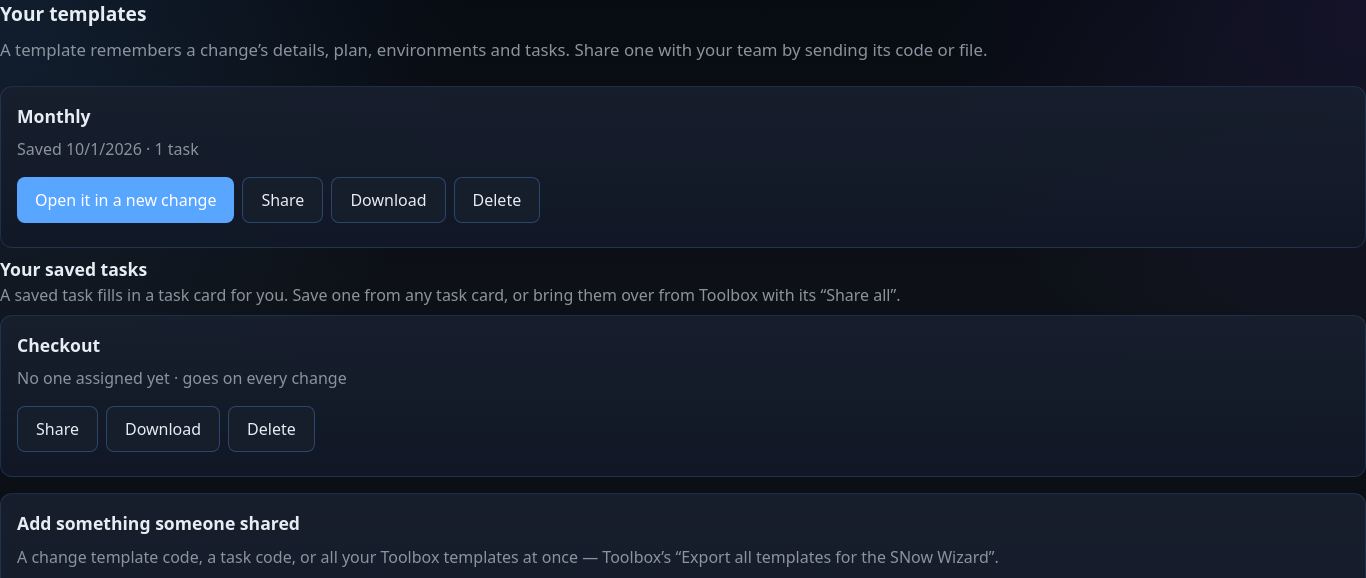
Scenario: TemplatesScreen › asks on the page before deleting, and can keep it
This screenshot has width=1366, height=578.
Step 1. Click the button "Delete" below "Saved 10/1/2026 · 1 task" → [497, 200], box x1=454 y1=177 x2=540 y2=223
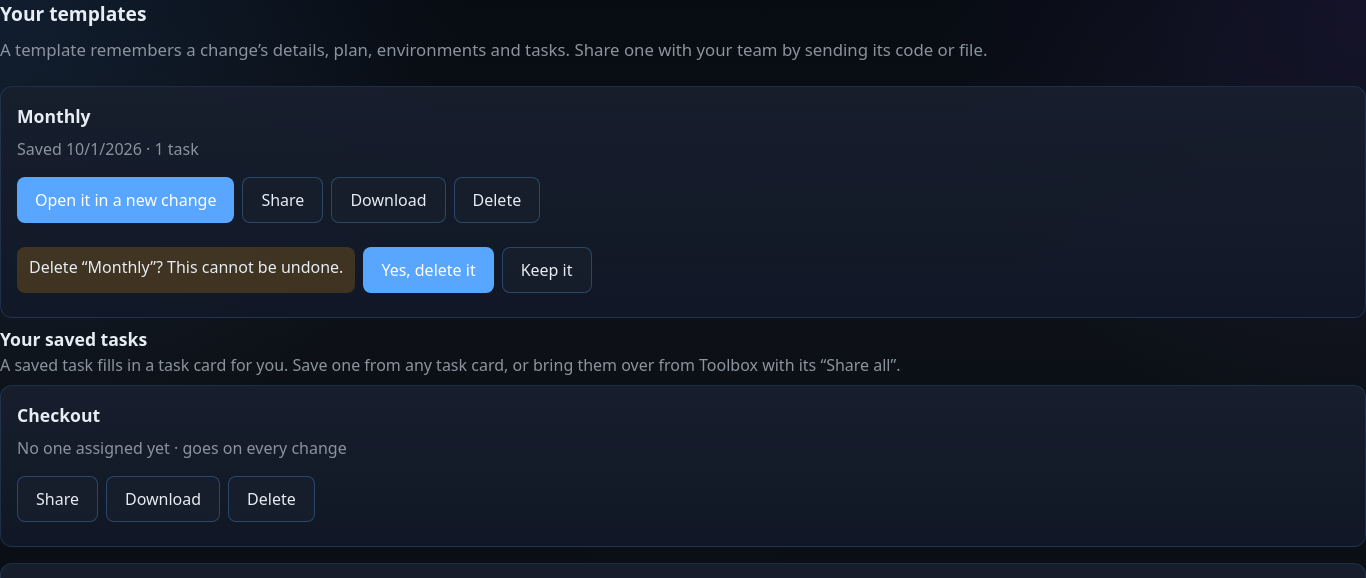
Step 2. Click the button "Keep it" → [547, 270], box x1=502 y1=247 x2=592 y2=293
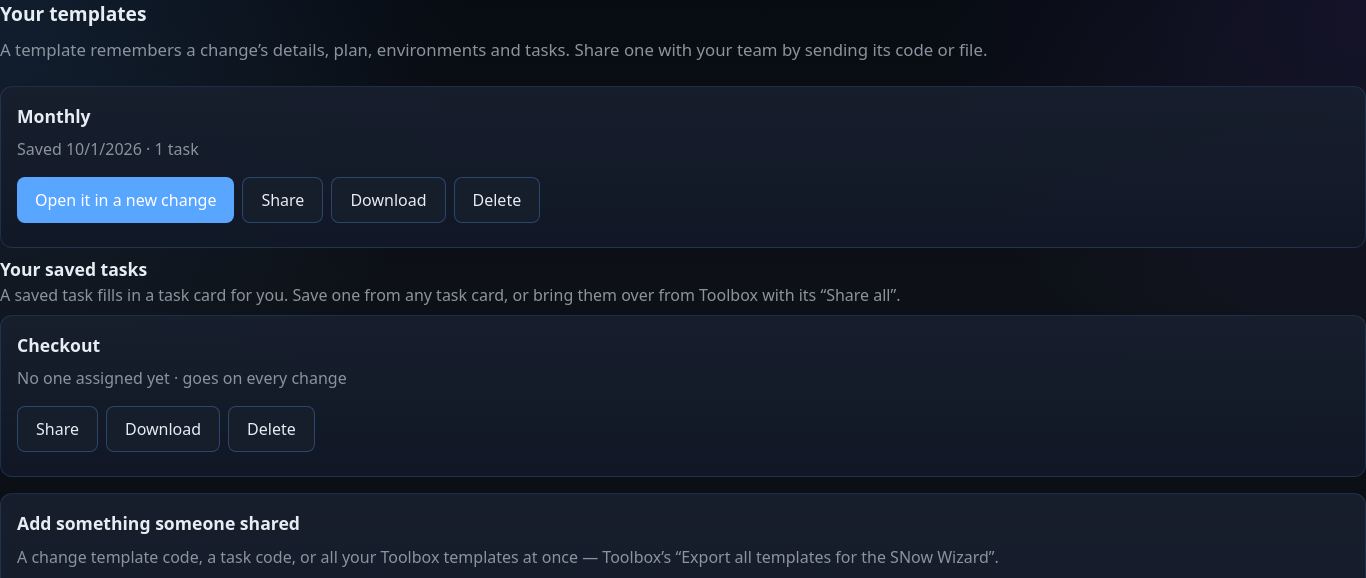
Expected: the heading "Monthly" is shown, x1=17 y1=104 x2=91 y2=128
Step 3. Click the button "Delete" below "Saved 10/1/2026 · 1 task" → [497, 200], box x1=454 y1=177 x2=540 y2=223
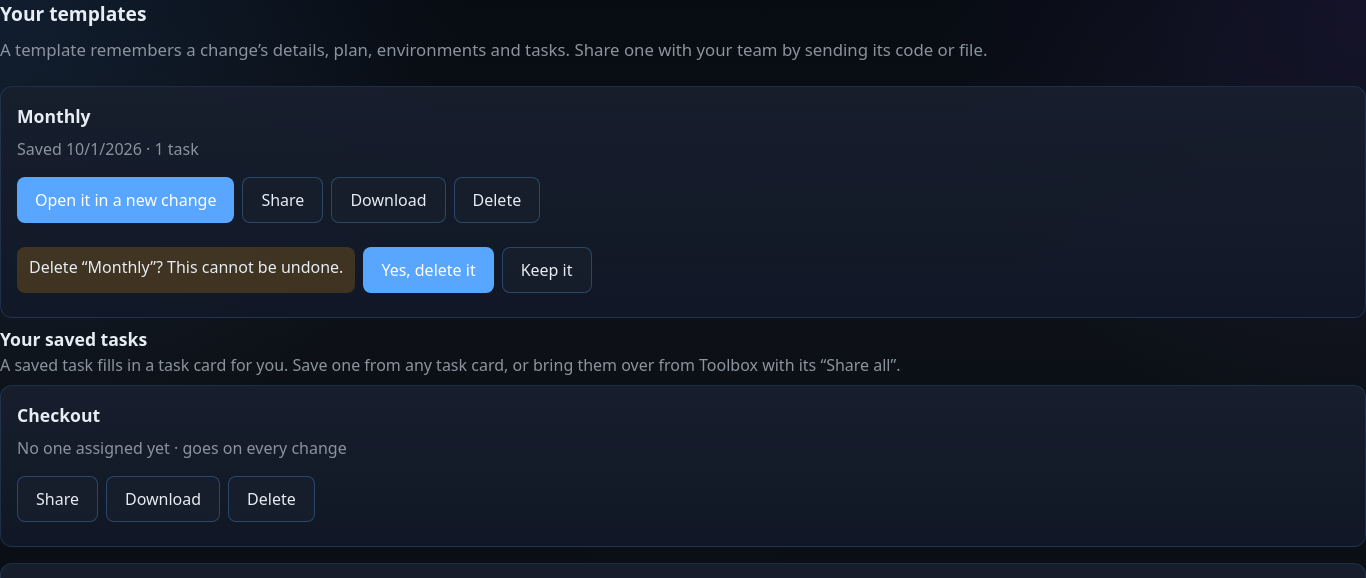
Step 4. Click the button "Yes, delete it" → [429, 270], box x1=363 y1=247 x2=494 y2=293
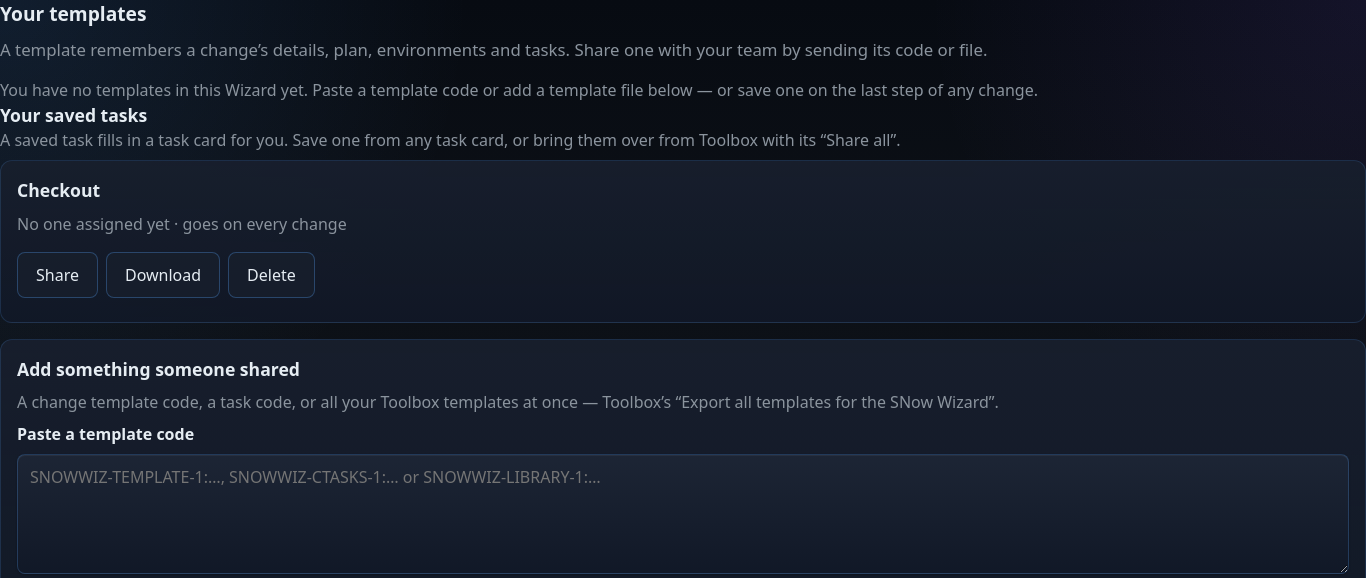
Expected: the heading "Monthly" is gone
